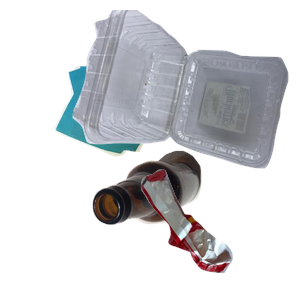glass: (90, 148, 300, 300)
paper: (52, 49, 209, 198)
plastic: (70, 10, 300, 171)
trash: (139, 167, 300, 300)
